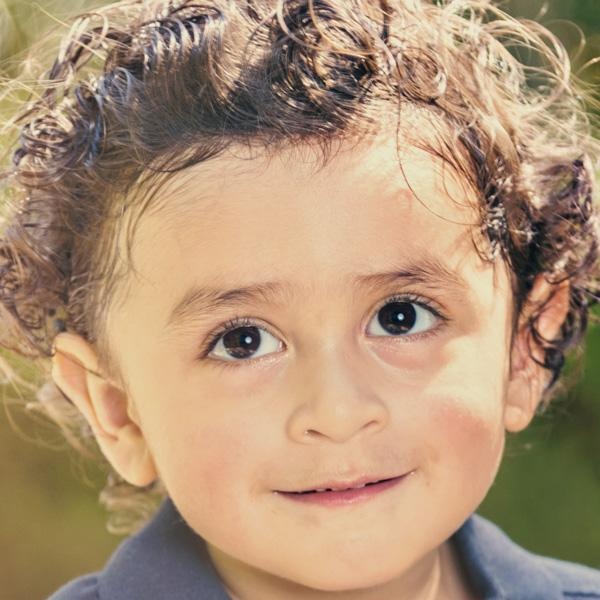Eyes: (188, 305, 299, 381), (356, 288, 452, 358)
